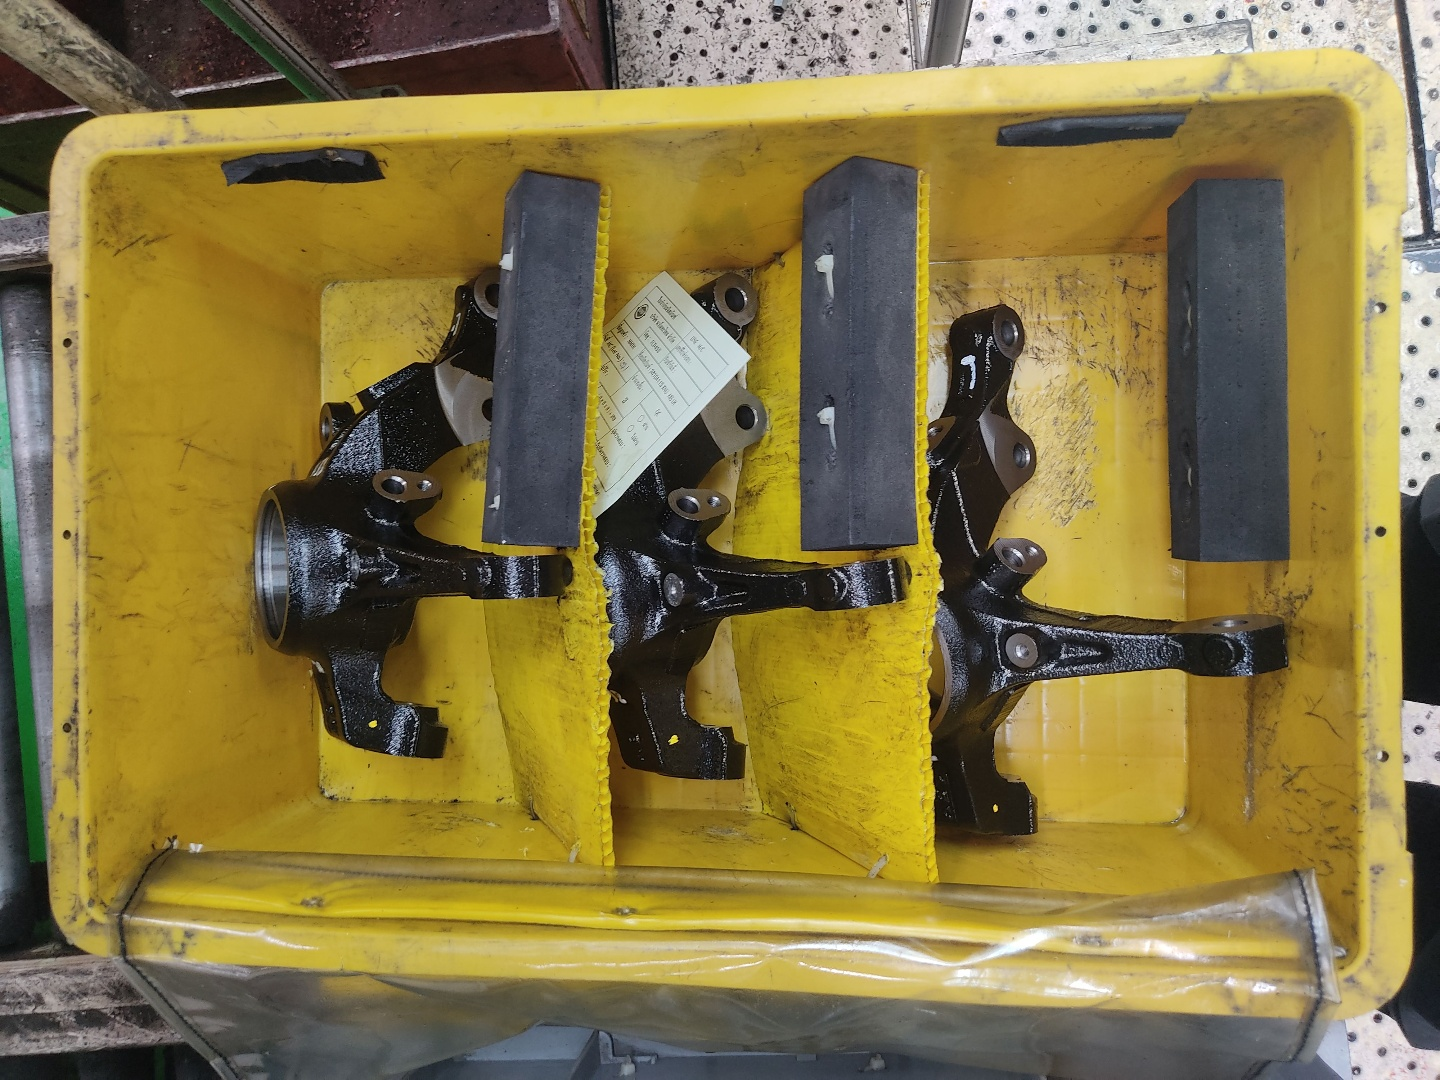abs-lh: (921, 298, 1299, 843), (578, 267, 921, 784), (247, 258, 578, 768)
